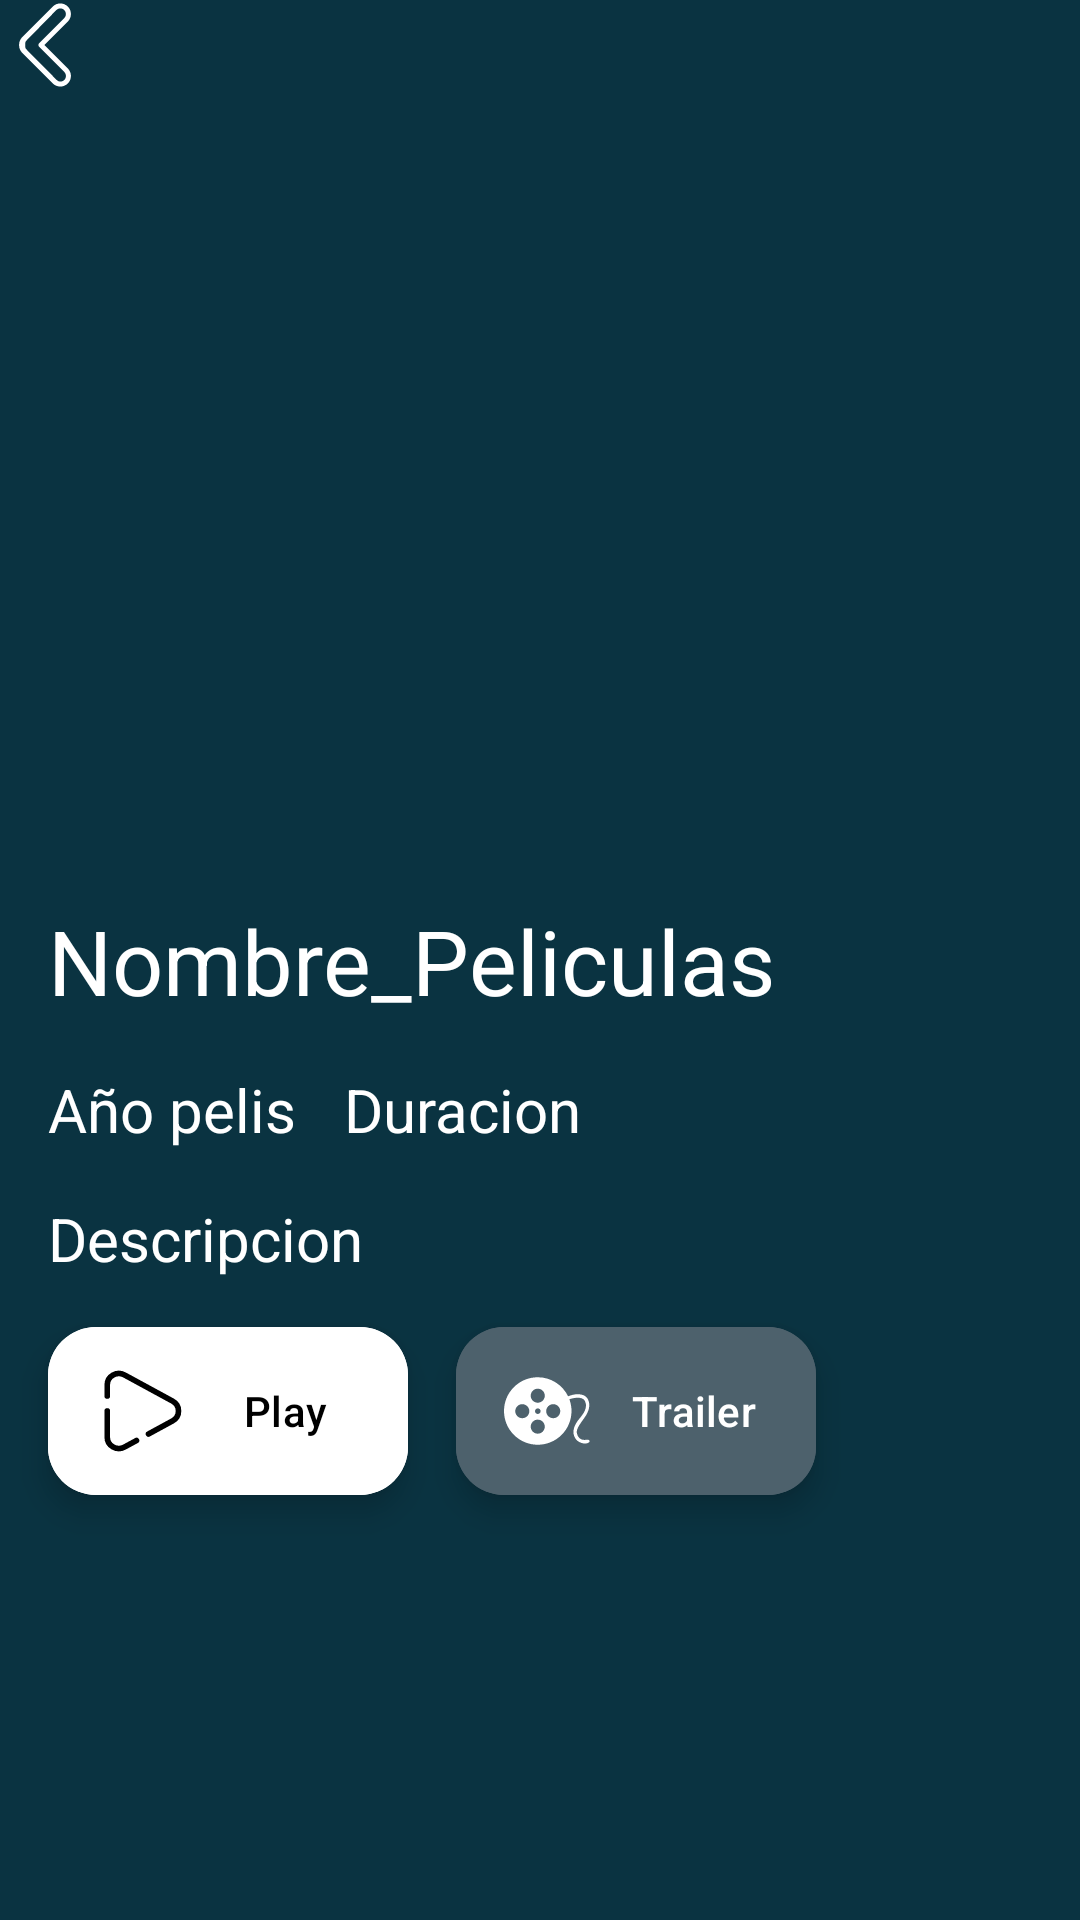

Locate icon controls on the screen. Image size 1080×1920, boxes as region(x1, y1, x2, y2).
back: region(19, 3, 71, 87)
